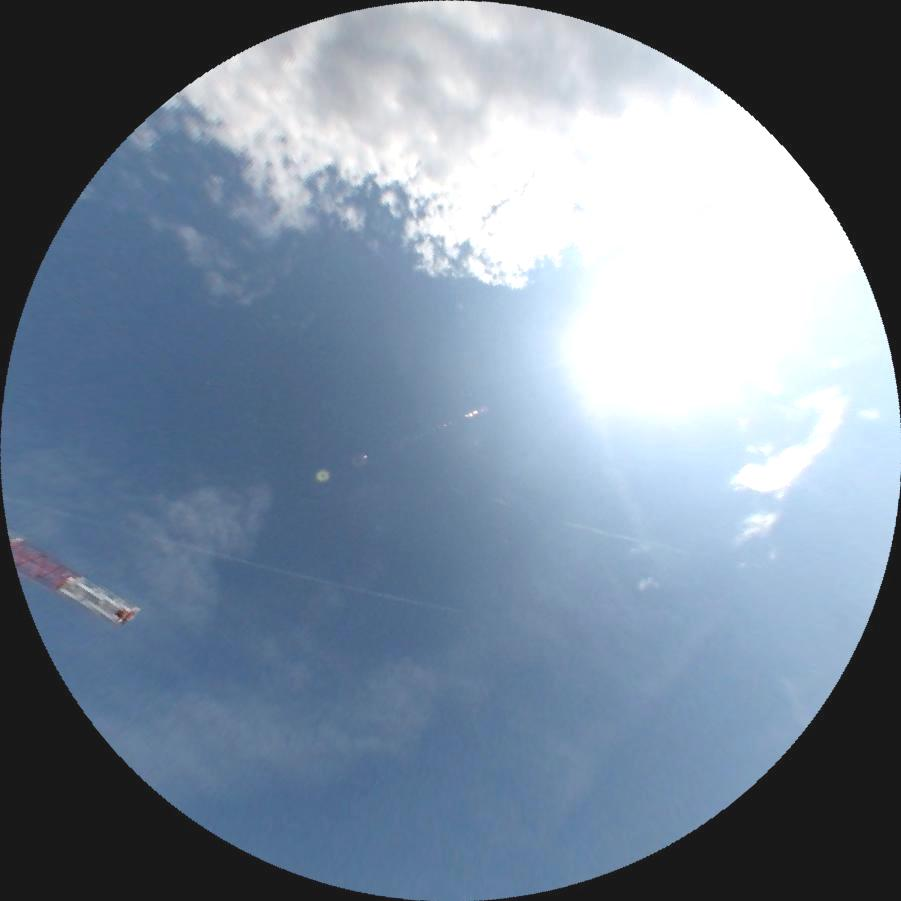contrail old: (564, 521, 686, 553)
contrail young: (1, 494, 459, 617)
sun: (563, 209, 782, 426)
